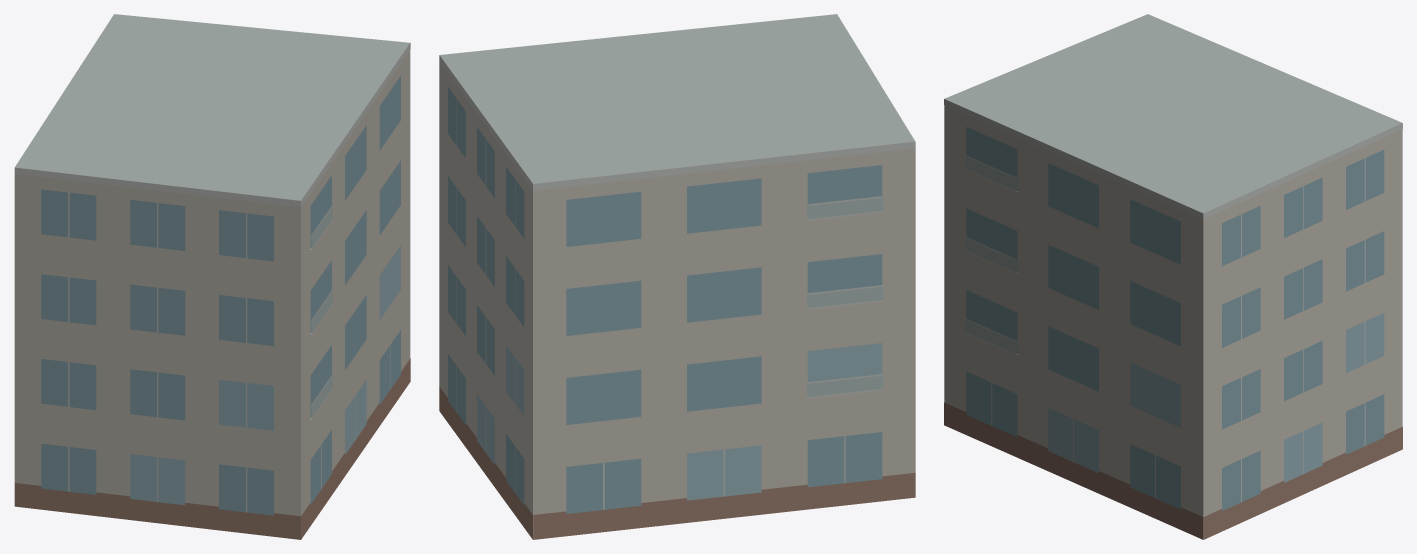
File: survey-upis-32920064.glb
The picture shows the model from 3 angles, left to right: view 1: azimuth 30°, elevation 25°; view 2: azimuth 150°, elevation 25°; view 3: azimuth 270°, elevation 25°; orthographic projection. The views are drawn at different scales.
Visible parts, largest first — view 1: survey-upis-32920064.tmp; view 2: survey-upis-32920064.tmp; view 3: survey-upis-32920064.tmp.
Part boxes in pixels (box(x1,y1,x2,y2)): survey-upis-32920064.tmp: box(14, 14, 410, 539); survey-upis-32920064.tmp: box(439, 14, 915, 539); survey-upis-32920064.tmp: box(944, 14, 1402, 539).
Size of the model in its own units: 16.78 by 12.8 by 16.31.
